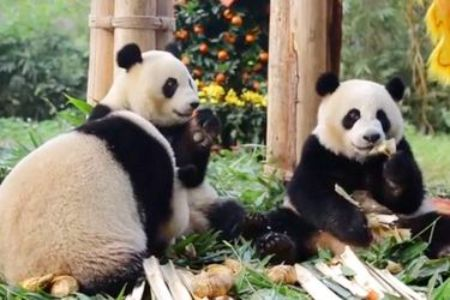bear: (267, 64, 449, 265), (105, 41, 262, 238), (5, 119, 190, 276)
